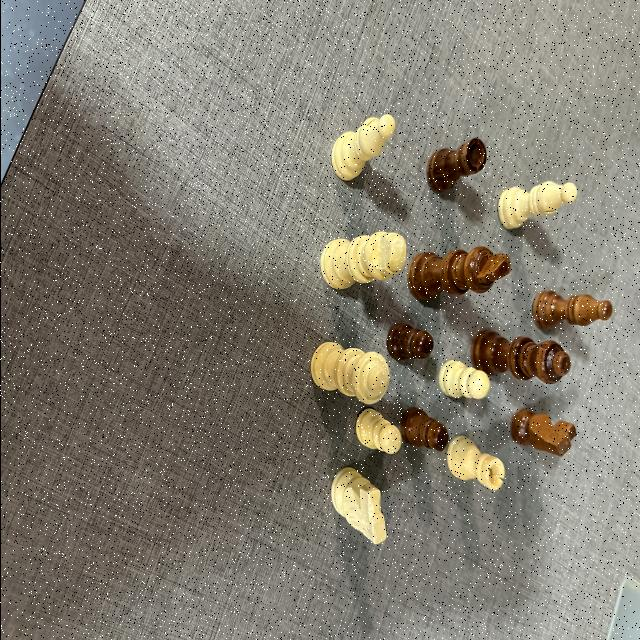Black-Bishop: (532, 290, 612, 330)
Black-King: (408, 247, 511, 302)
Black-Knight: (510, 408, 576, 456)
Black-Pawn: (400, 408, 448, 452), (387, 323, 434, 362)
Black-Queen: (471, 330, 571, 384)
Black-Rook: (426, 138, 488, 191)
White-Bishop: (330, 113, 395, 181), (496, 182, 576, 230)
White-King: (318, 231, 407, 291)
White-Knight: (329, 467, 387, 544)
White-Pawn: (354, 407, 400, 454), (437, 360, 489, 401)
White-Queen: (309, 340, 389, 404)
White-Rook: (446, 436, 505, 492)
